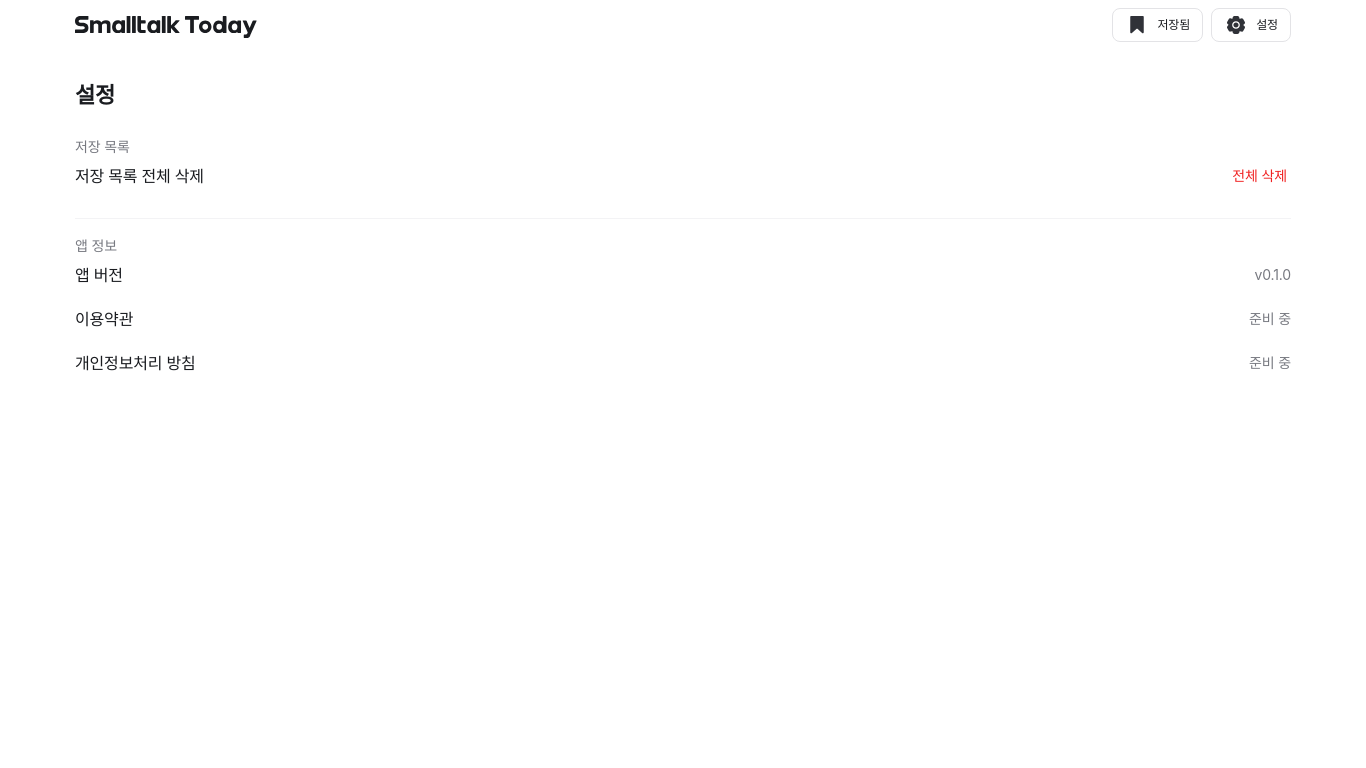
card screen integration › clears saved cards only on confirmation and preserves regeneration state
Click the button "전체 삭제" at point(1260, 176), box [1228,160,1291,192]
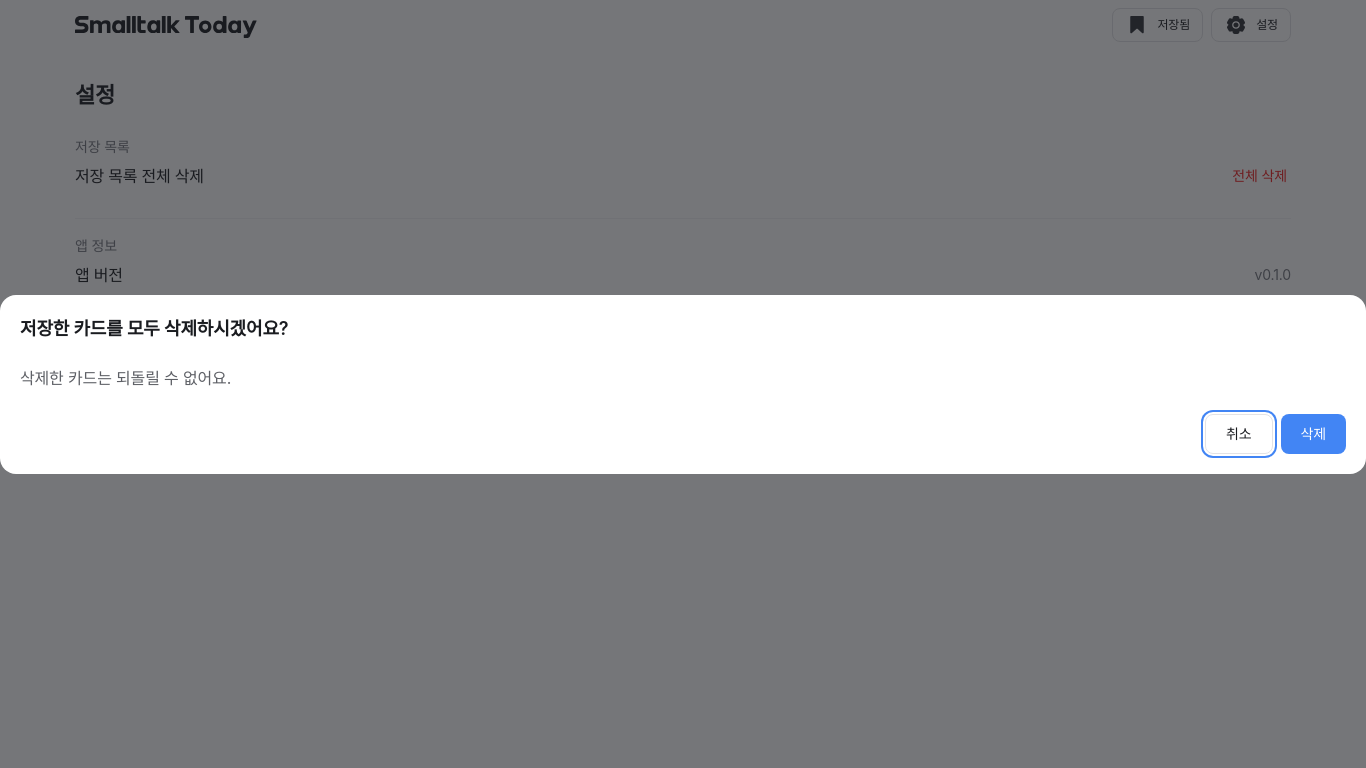
Click the button "취소" at point(1239, 434), box [1205,414,1272,454]
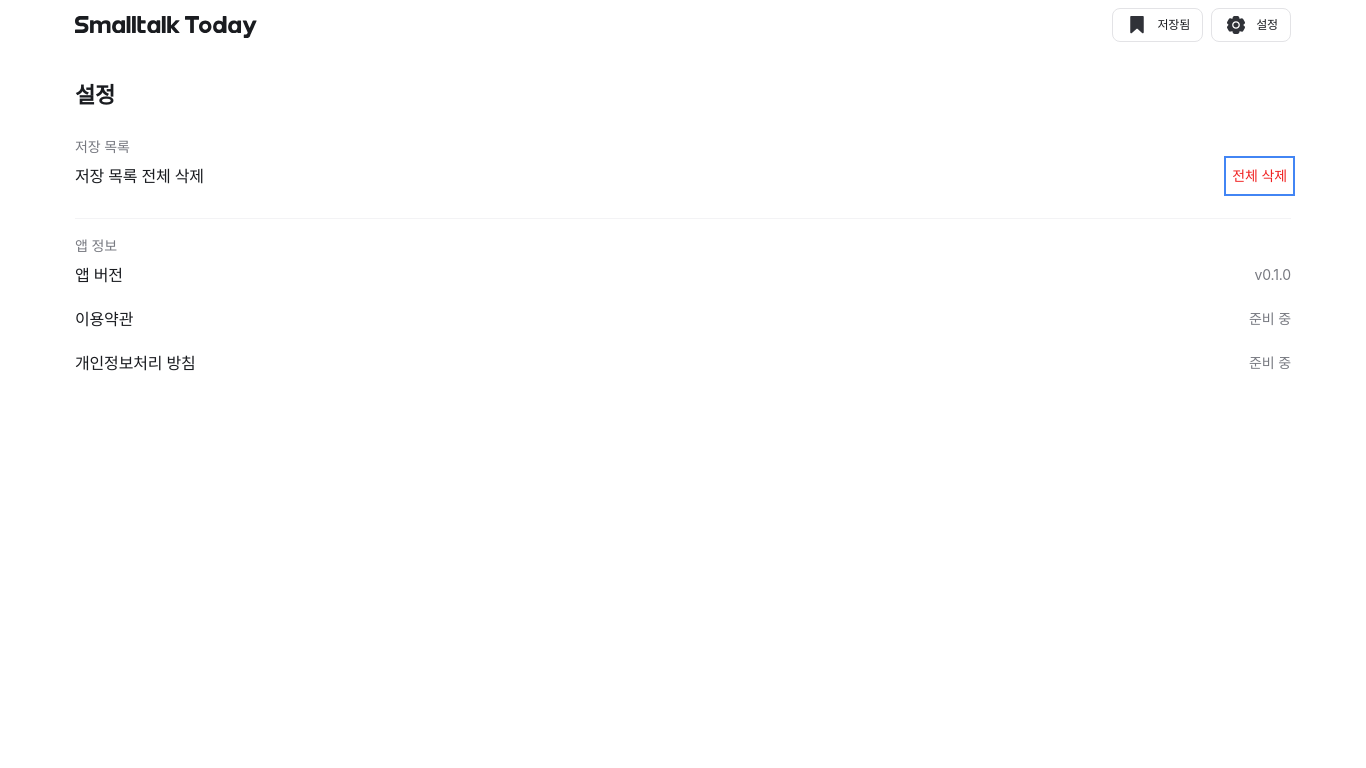
Click the button "전체 삭제" at point(1260, 176), box [1228,160,1291,192]
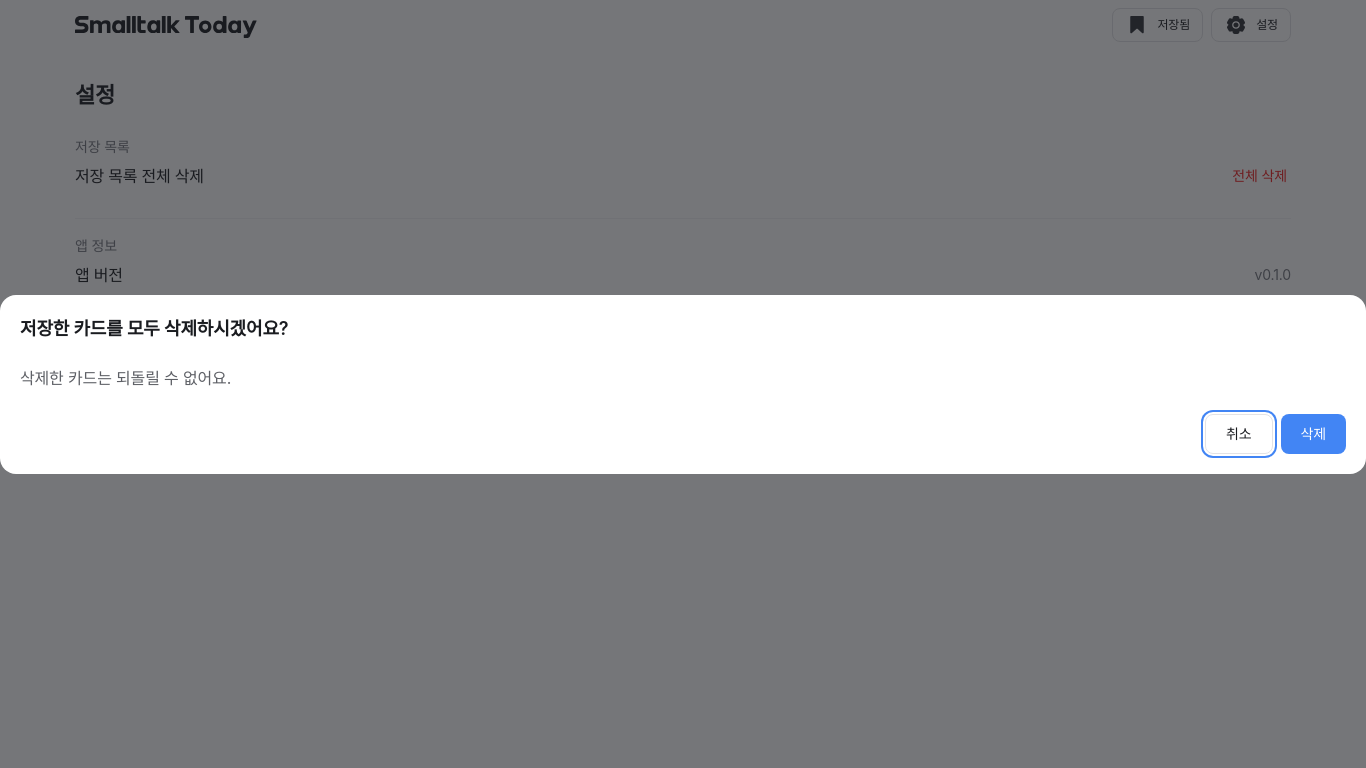
Click the button "삭제" at point(1313, 434), box [1280,414,1346,454]
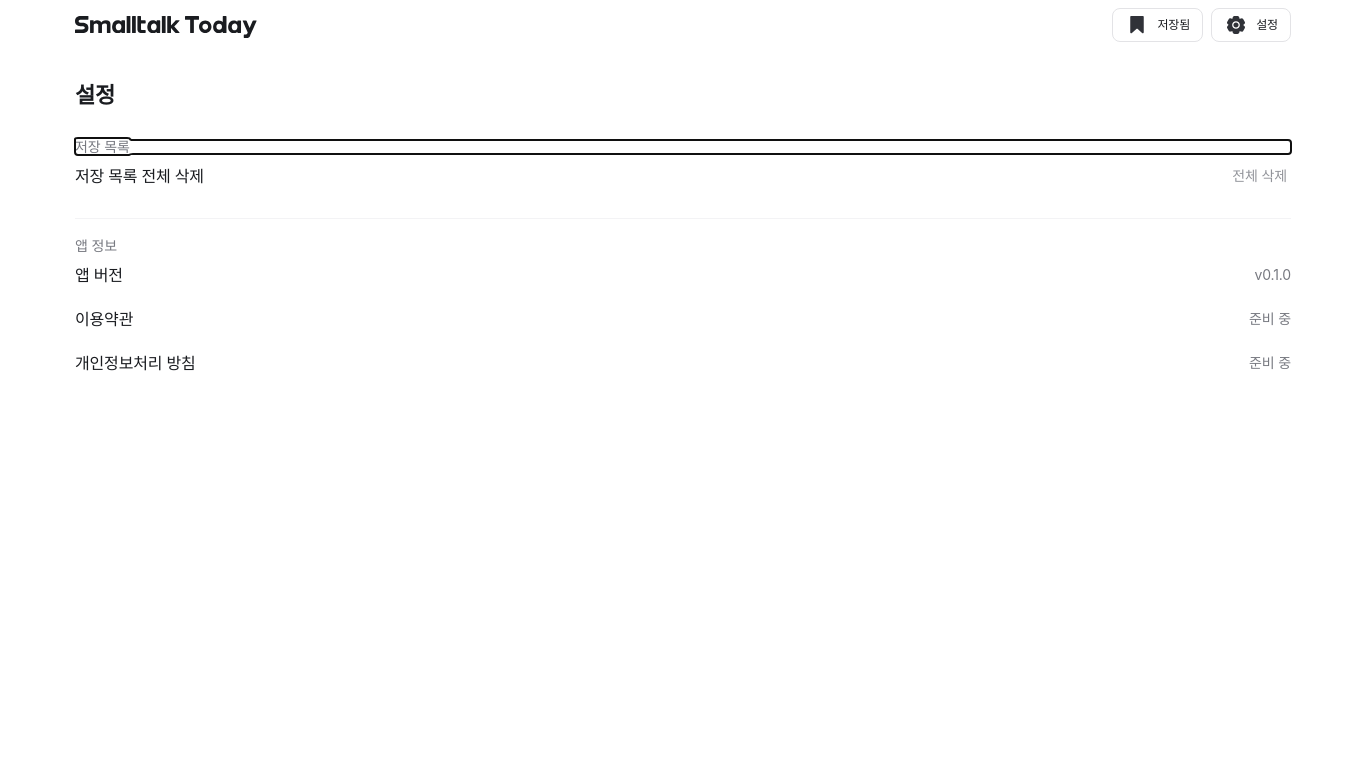
Now the dialog is gone
Now the button "전체 삭제" is disabled, box [1228,160,1291,192]
